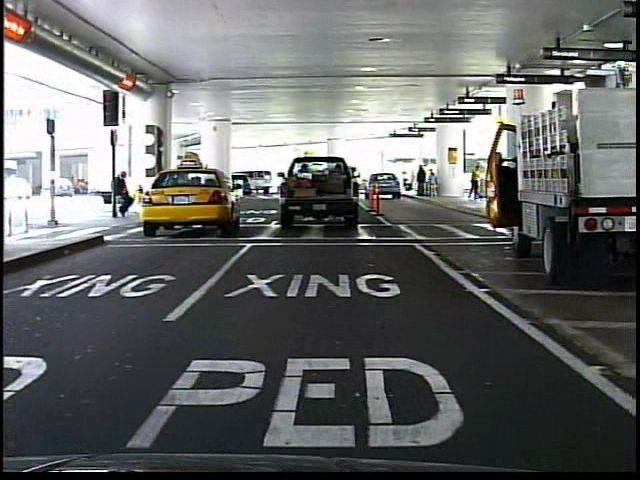person: (115, 164, 137, 221), (465, 160, 484, 205)
